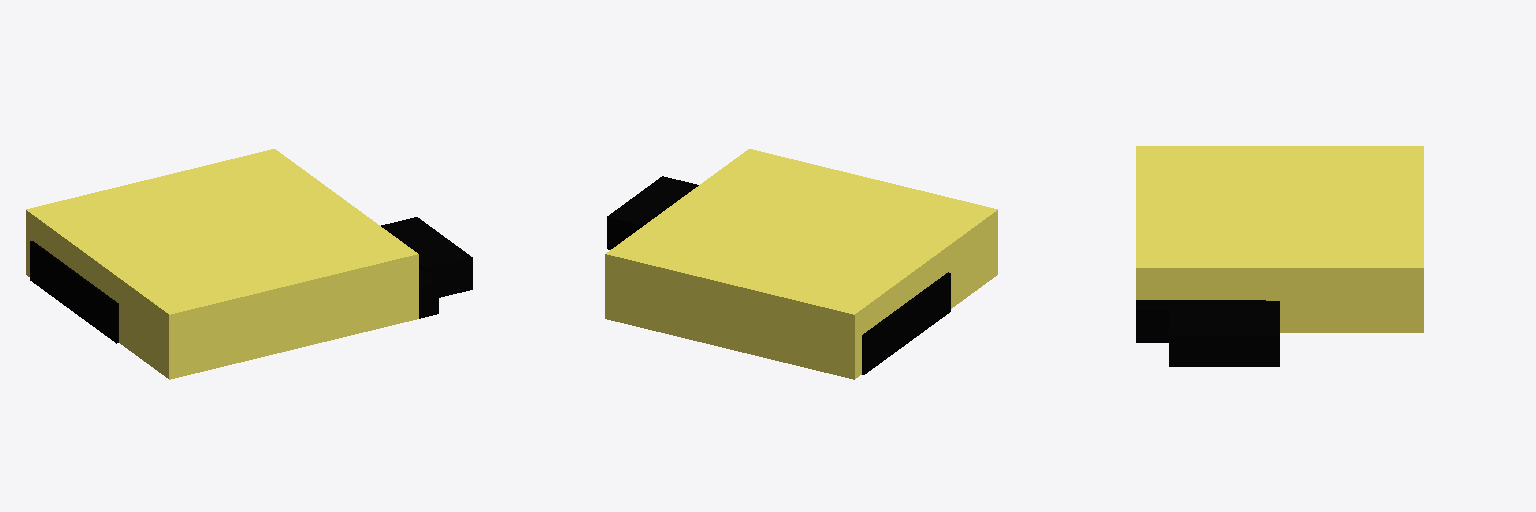
Rendered from walls.obj.
The picture shows the model from 3 angles: view 1: azimuth 30°, elevation 25°; view 2: azimuth 150°, elevation 25°; view 3: azimuth 270°, elevation 25°; orthographic projection.
Visible parts, largest first — view 1: Building.001_Cube.005; view 2: Building.001_Cube.005; view 3: Building.001_Cube.005.
Part boxes in pixels (x1,y1,x2,y2): Building.001_Cube.005: (26, 149, 472, 379); Building.001_Cube.005: (605, 149, 997, 379); Building.001_Cube.005: (1136, 146, 1423, 366).
Bounding box in the file's own units: 25.85 × 4.99 × 20.